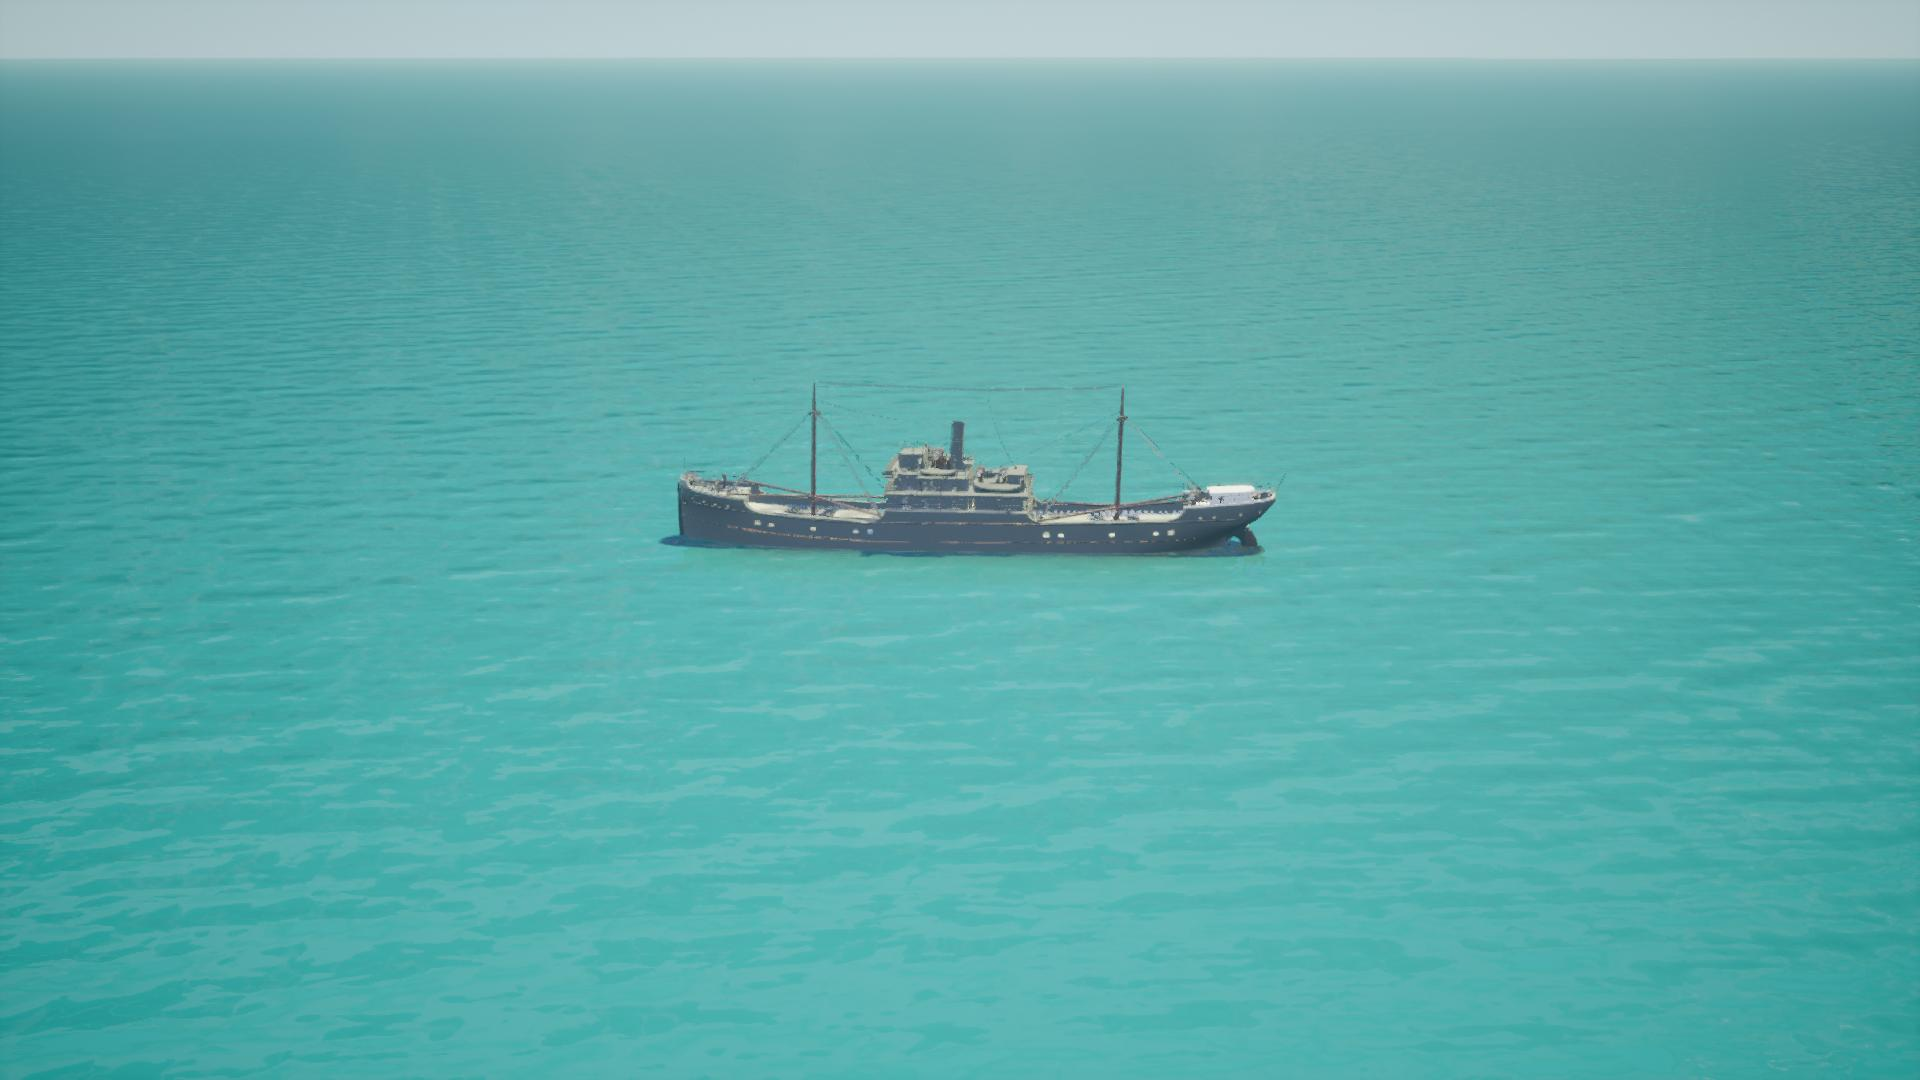Fishing Boat: (673, 389, 1275, 556)
